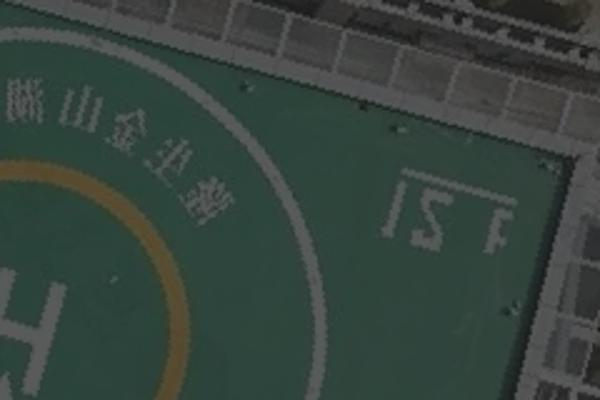Apron: (2, 151, 223, 400)
